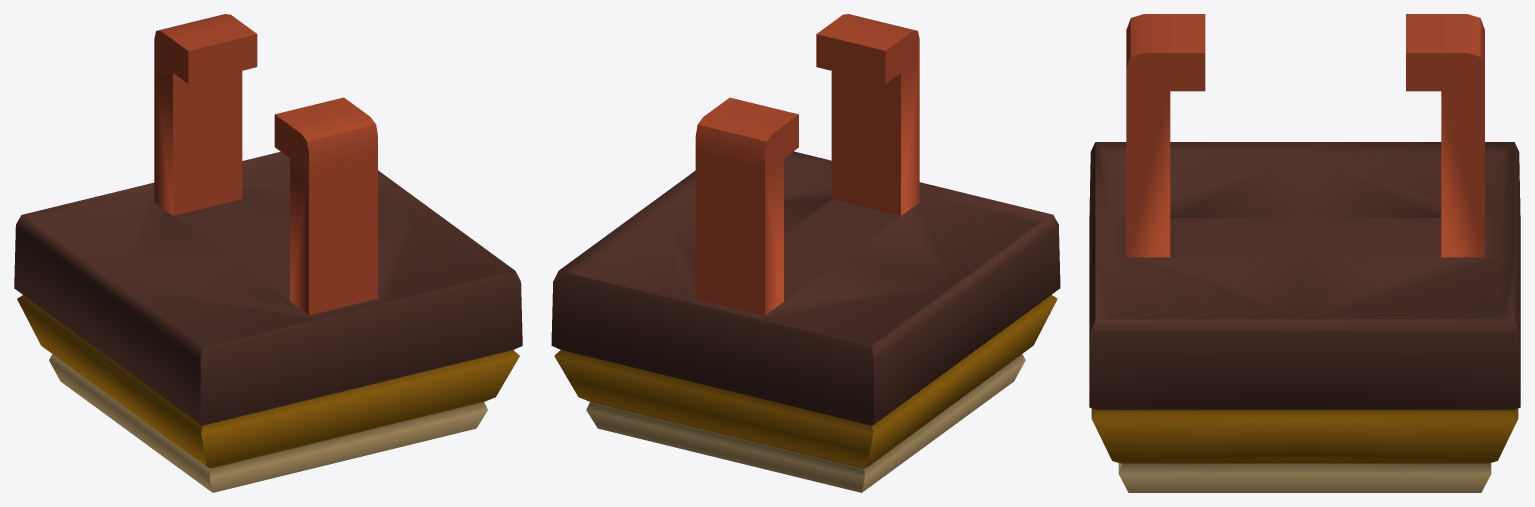
Rendered from Conduit.fbx.
3 views of the same model, side by side, from view 1: azimuth 30°, elevation 25°; view 2: azimuth 150°, elevation 25°; view 3: azimuth 270°, elevation 25° (orthographic). The views are drawn at different scales.
Parts seen in each view (by area): view 1: Box001; view 2: Box001; view 3: Box001.
Part boxes in pixels (<box>): Box001: <box>14,14,522,492</box>; Box001: <box>551,14,1060,492</box>; Box001: <box>1089,14,1520,492</box>.
Size of the model in its own units: 24.45 by 24 by 24.45.
1 material, 1 textured.
